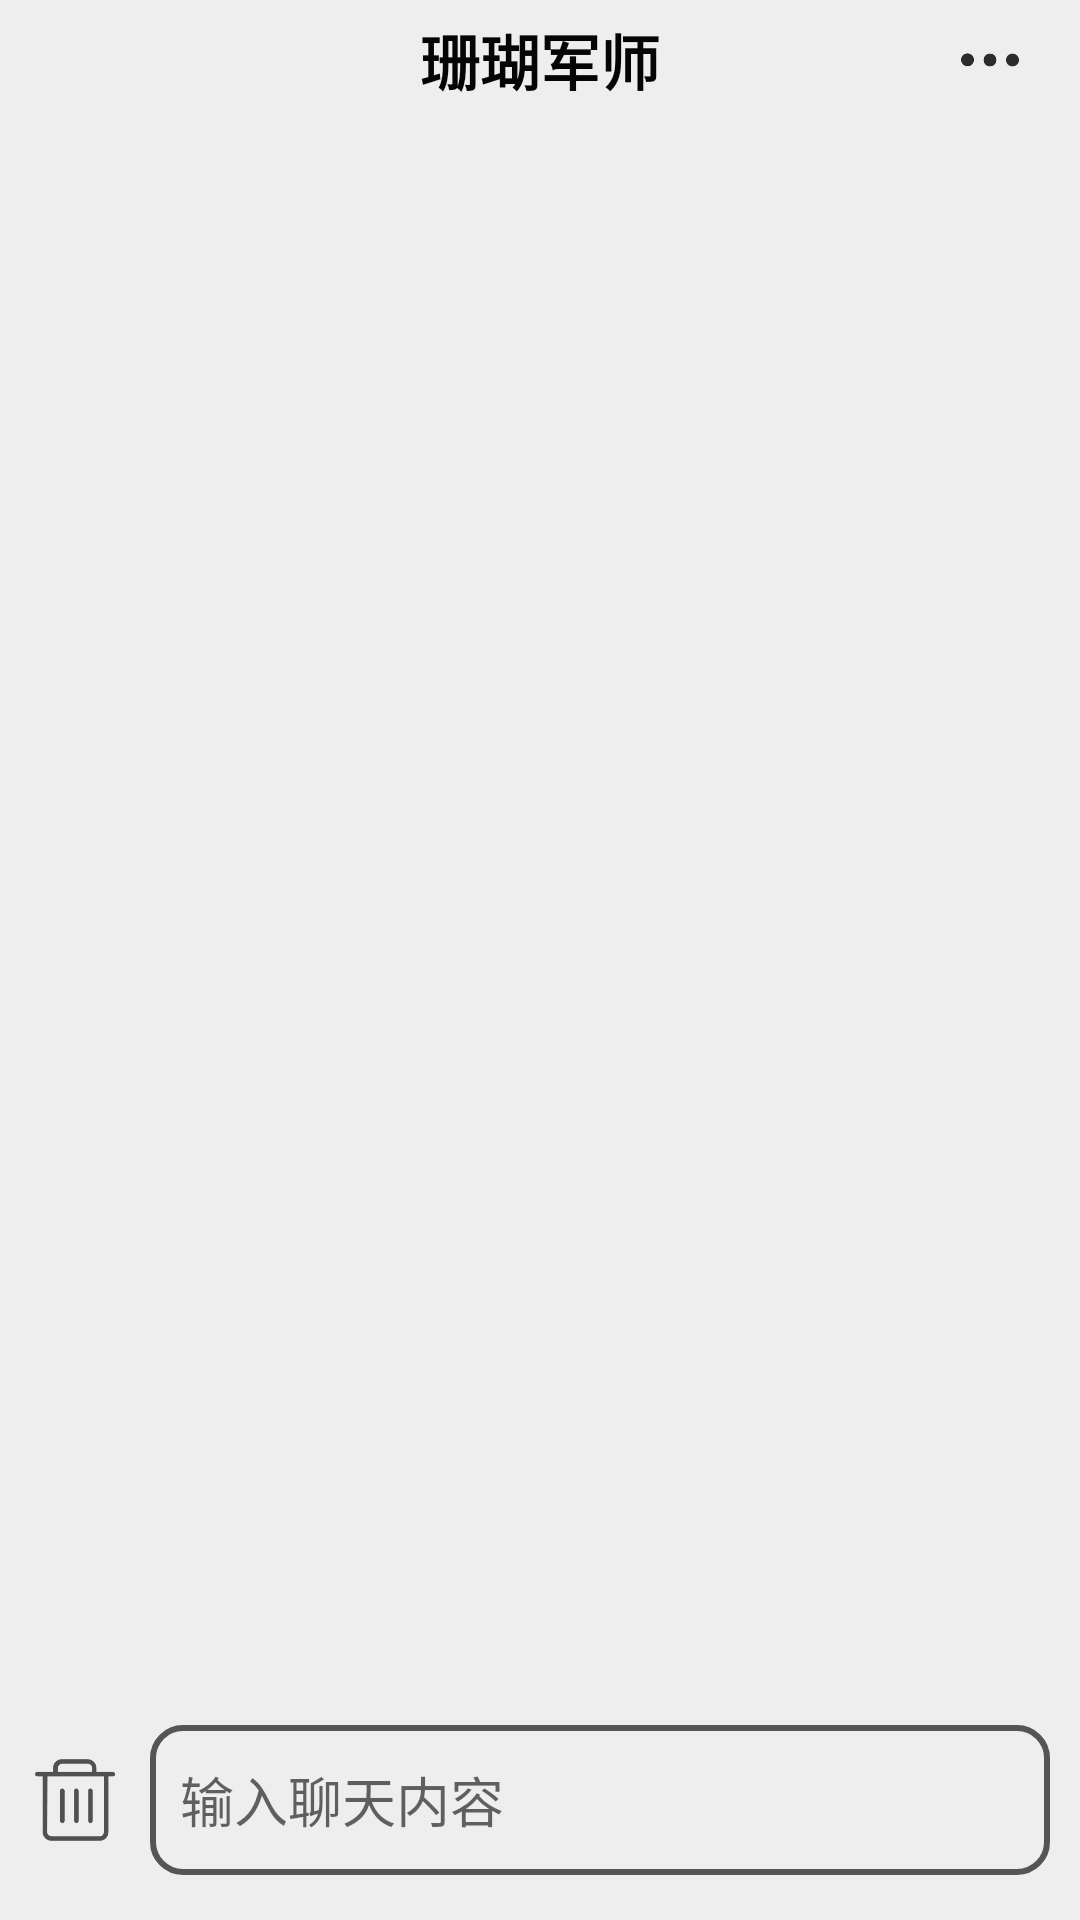

Icon bounding boxes for this 1080×1920 phone screenshot, format (x1=x1, y1=y1, x2=x2, y2=y2):
trash: (x1=35, y1=1759, x2=115, y2=1841)
